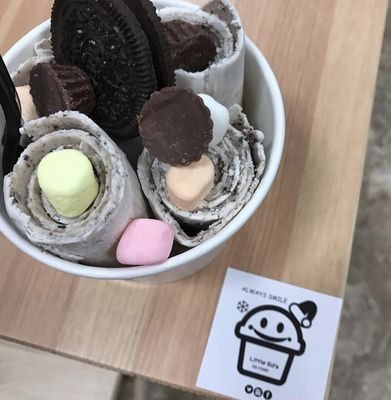sushi: (8, 0, 289, 286)
